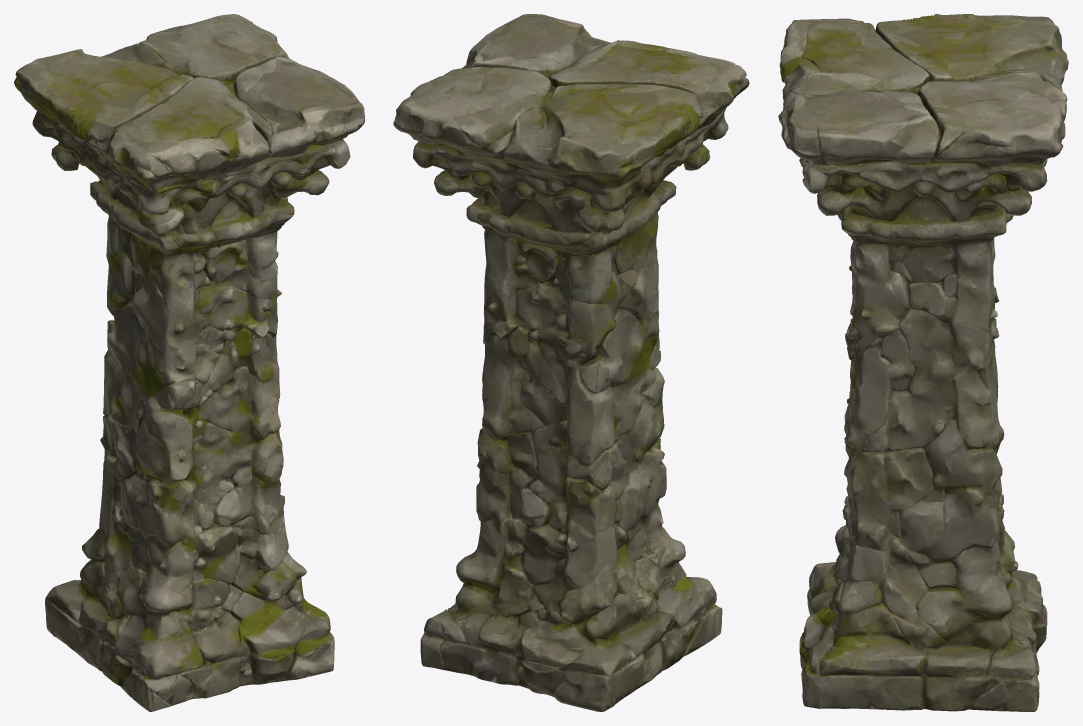
Rendered from pillar.glb.
3 views of the same model, side by side, from view 1: azimuth 30°, elevation 25°; view 2: azimuth 150°, elevation 25°; view 3: azimuth 270°, elevation 25° (orthographic). The views are drawn at different scales.
Visible parts, largest first — view 1: tripo_node_653da43c-360a-4dc9-9d58-abe72a206753; view 2: tripo_node_653da43c-360a-4dc9-9d58-abe72a206753; view 3: tripo_node_653da43c-360a-4dc9-9d58-abe72a206753.
Boxes of the visible parts, bbox=[...] form: tripo_node_653da43c-360a-4dc9-9d58-abe72a206753: bbox=[14, 14, 364, 711]; tripo_node_653da43c-360a-4dc9-9d58-abe72a206753: bbox=[393, 14, 749, 711]; tripo_node_653da43c-360a-4dc9-9d58-abe72a206753: bbox=[778, 14, 1068, 711].
Size of the model in its own units: 0.4351 by 0.9778 by 0.4332.
1 material, 1 textured.
